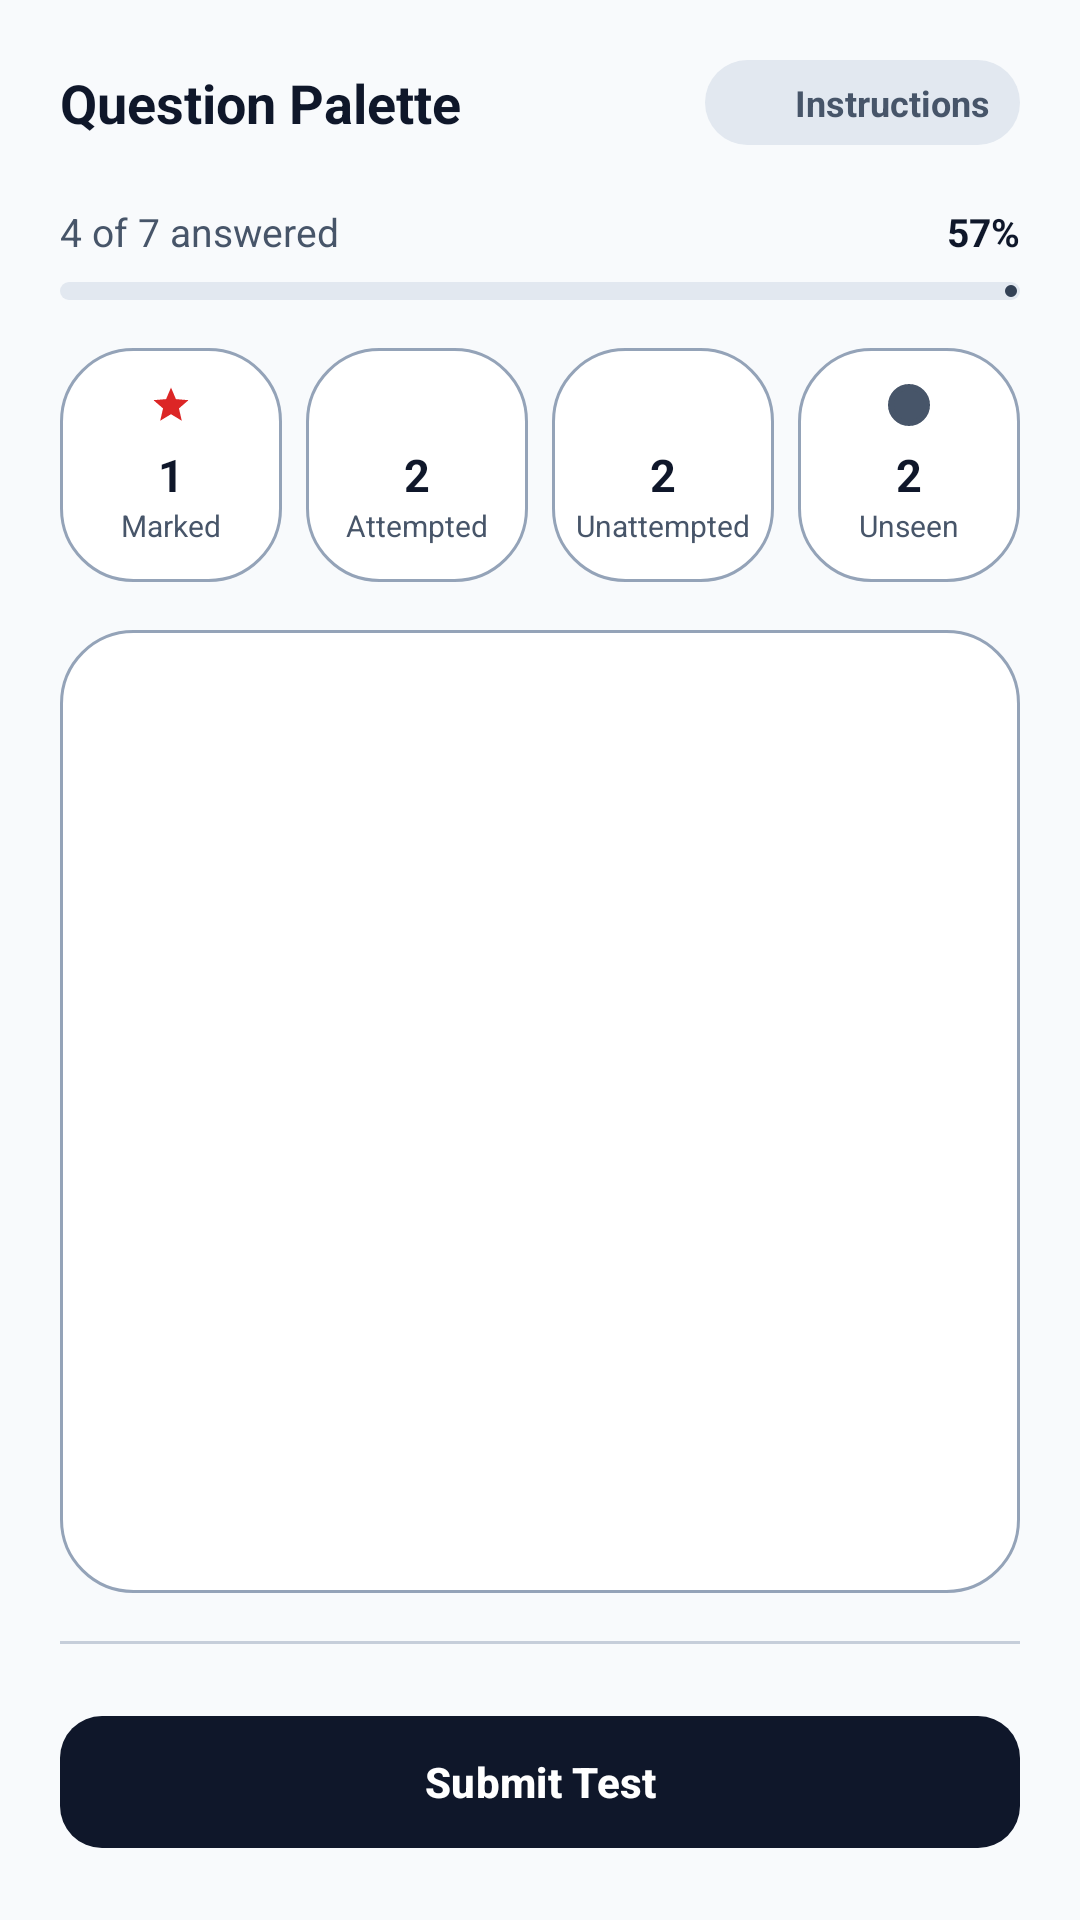

Icons on this 1080x1920 Android screen, each with its box as (x1, y1, x2, y2):
star: (154, 388, 188, 421)
